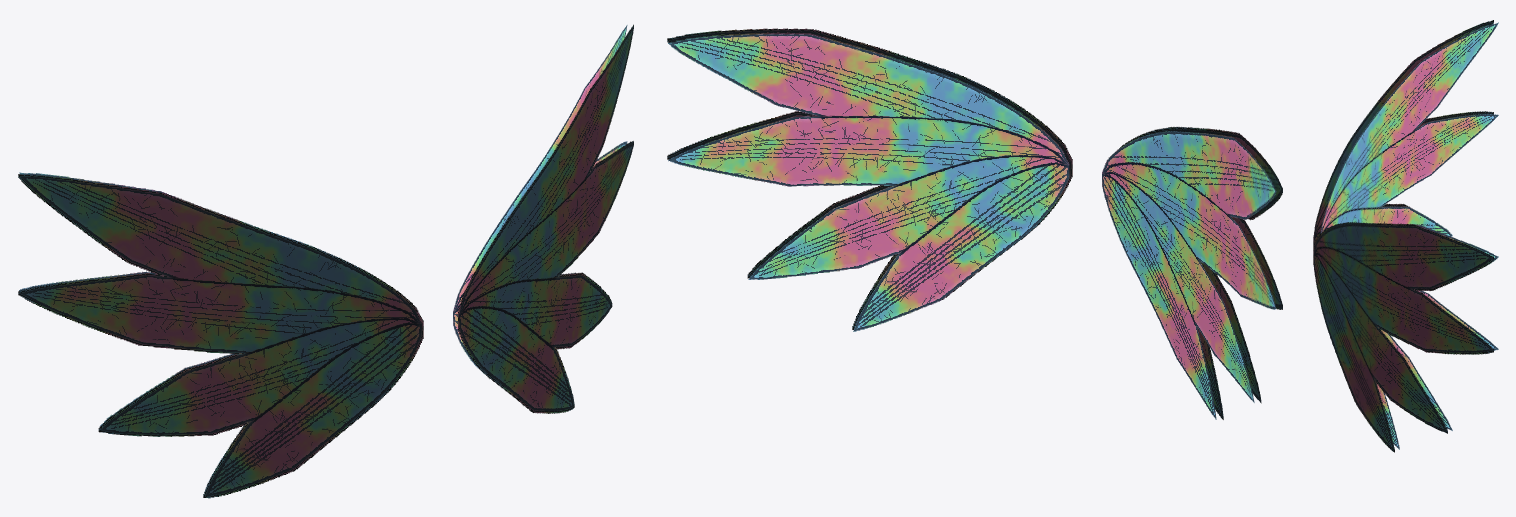
The model's file is dragonfly_prism_wings.glb.
3 views of the same model, side by side, from view 1: azimuth 30°, elevation 25°; view 2: azimuth 150°, elevation 25°; view 3: azimuth 270°, elevation 25° (orthographic). The views are drawn at different scales.
Parts seen in each view (by area): view 1: Dragonfly Prism Wings Wing Right, Dragonfly Prism Wings Wing Left; view 2: Dragonfly Prism Wings Wing Left, Dragonfly Prism Wings Wing Right; view 3: Dragonfly Prism Wings Wing Left, Dragonfly Prism Wings Wing Right.
Part boxes in pixels (box(x1,y1,x2,y2)): Dragonfly Prism Wings Wing Right: box(18, 172, 423, 498); Dragonfly Prism Wings Wing Left: box(453, 24, 633, 413); Dragonfly Prism Wings Wing Left: box(667, 28, 1072, 331); Dragonfly Prism Wings Wing Right: box(1102, 127, 1282, 419); Dragonfly Prism Wings Wing Left: box(1313, 222, 1498, 452); Dragonfly Prism Wings Wing Right: box(1313, 20, 1498, 249).
Size of the model in its own units: 2.13 by 1.04 by 0.7148.
Materials: 2 (2 with a texture image).
